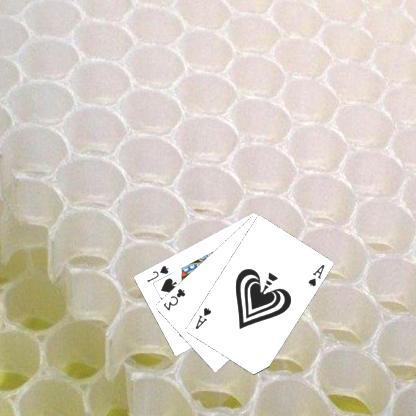3C: (162, 286, 188, 312)
AS: (194, 304, 214, 330), (307, 262, 327, 288)
JS: (146, 263, 171, 284)
